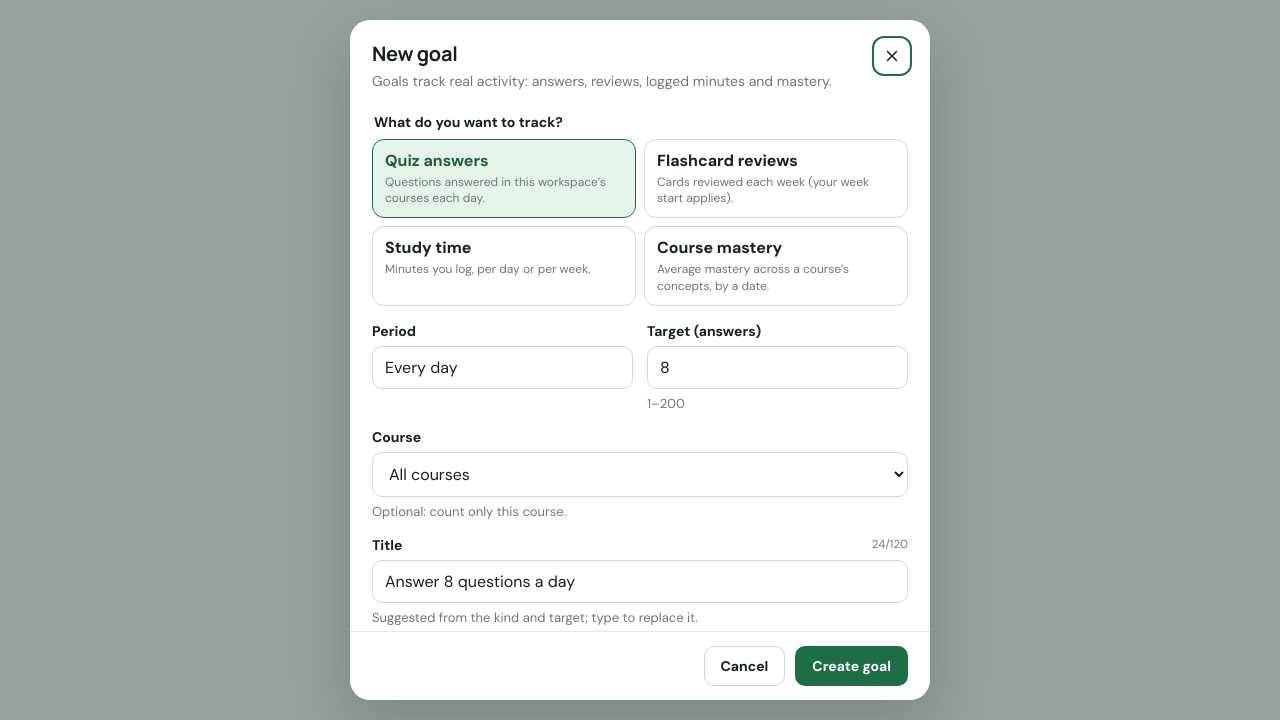
Scenario: GoalModal › offers a period choice only for study time and checks its target range
Click the radio button labelled "Study time Minutes you log, per day or per week." at (504, 266), box top-left (372, 226), bottom-right (636, 306)
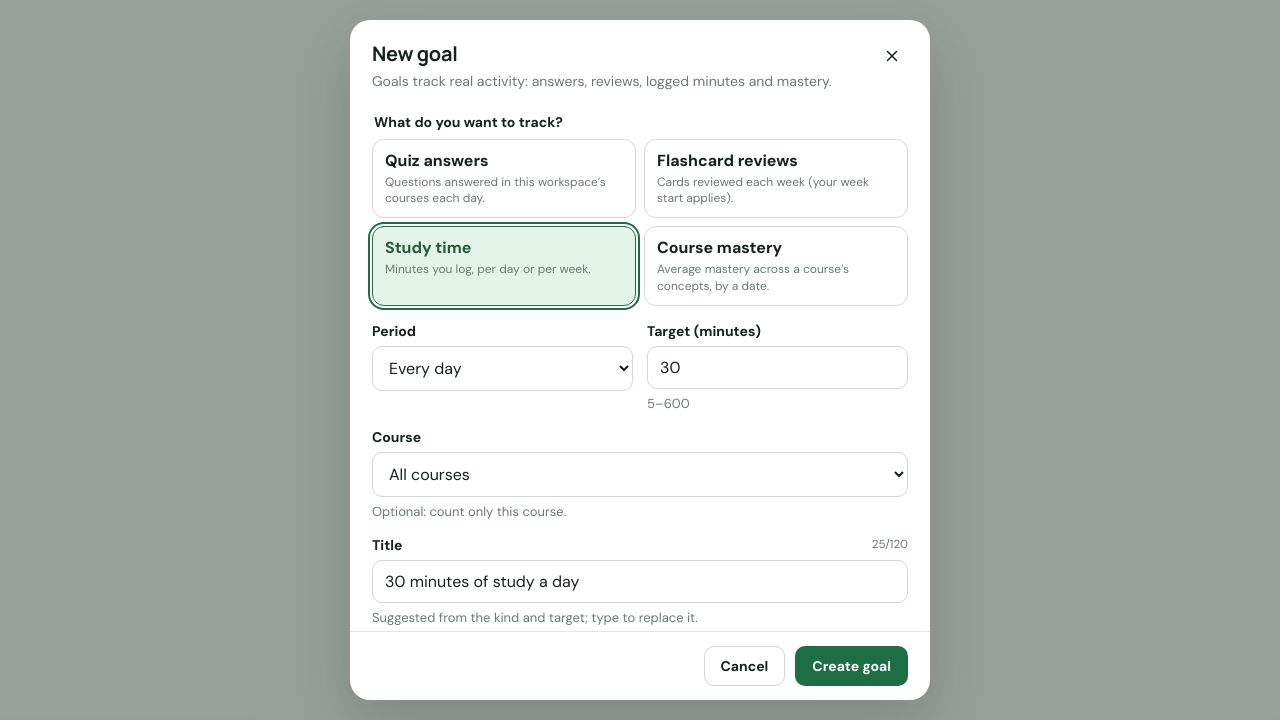
Select "Every week" in the dropdown labelled "Period" at (502, 368), box top-left (372, 346), bottom-right (633, 391)
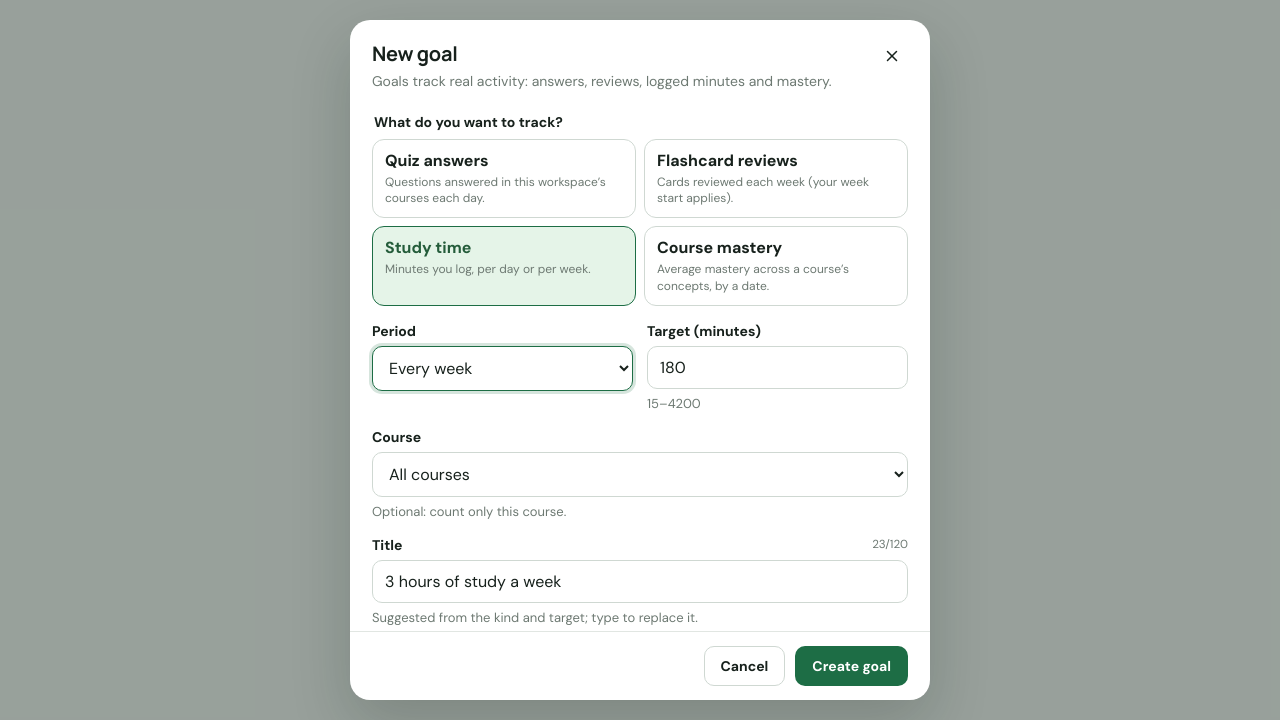
Replace the text in the number field labelled "Target (minutes)" with "10" at (778, 367), box top-left (647, 346), bottom-right (908, 389)
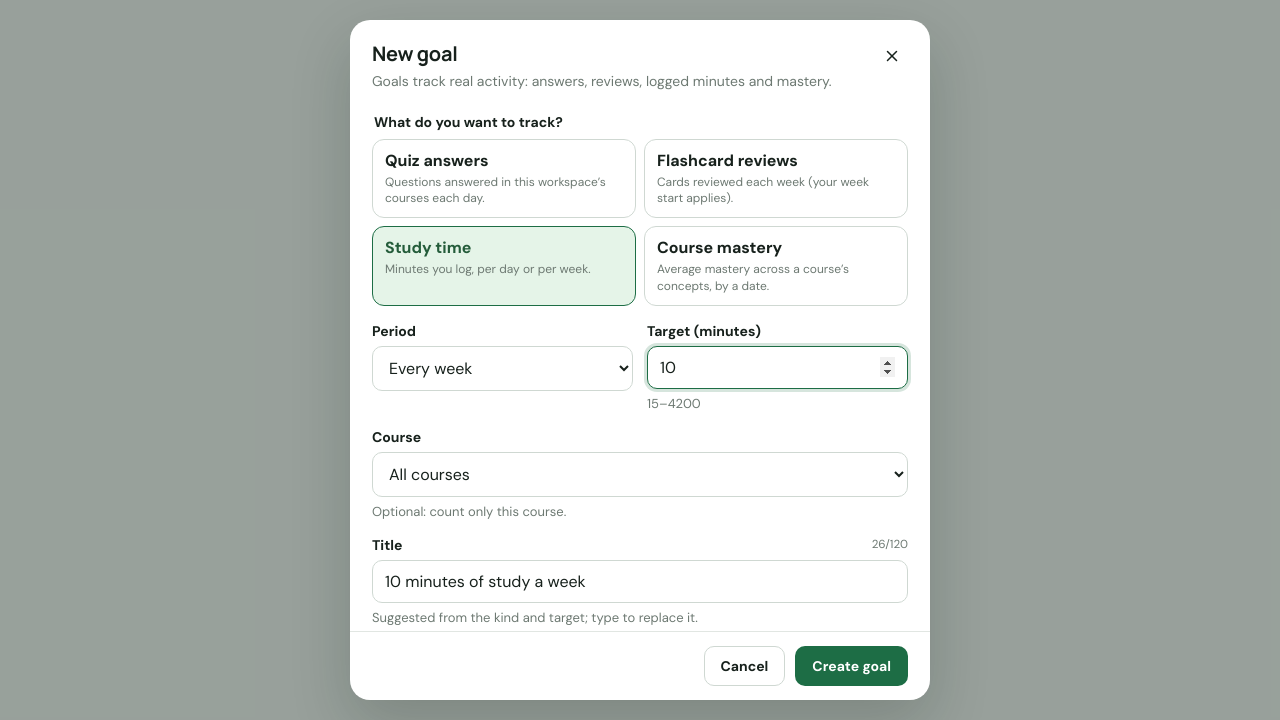
Click the button "Create goal" at (852, 666), box top-left (795, 646), bottom-right (908, 686)
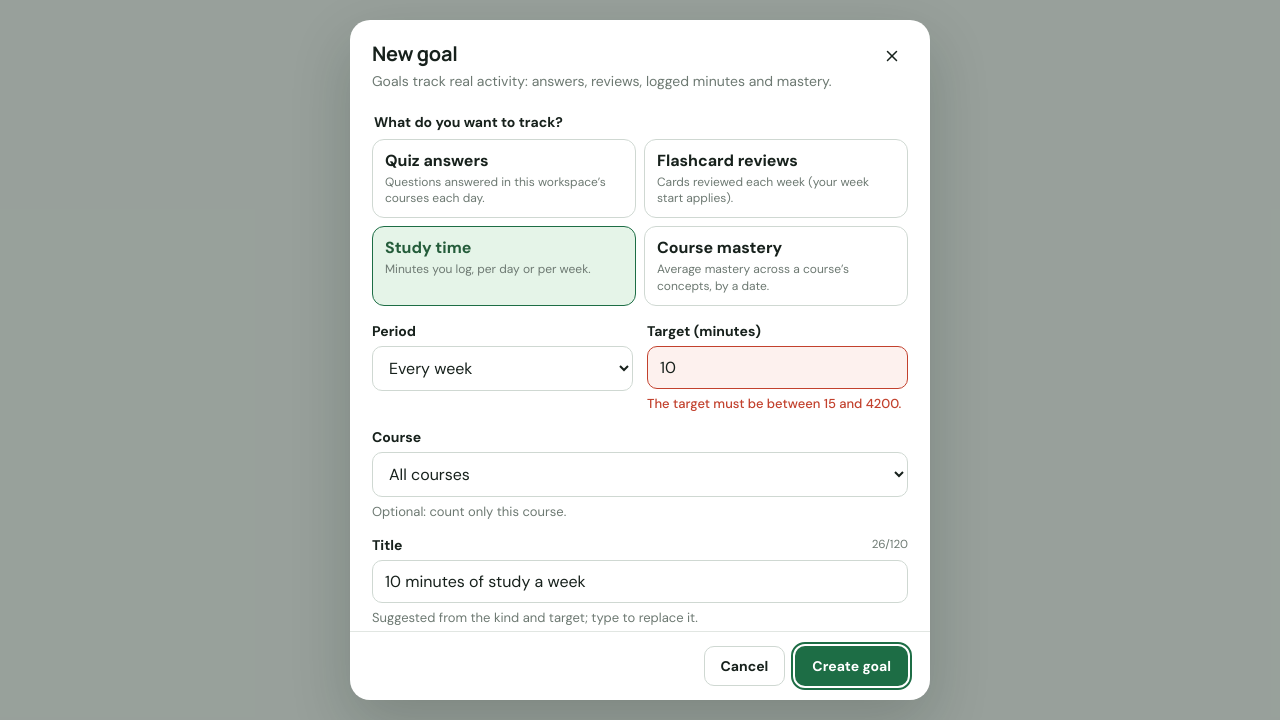
Expected: the text "The target must be between 15 and 4200." is shown, top-left (647, 395), bottom-right (908, 412)
